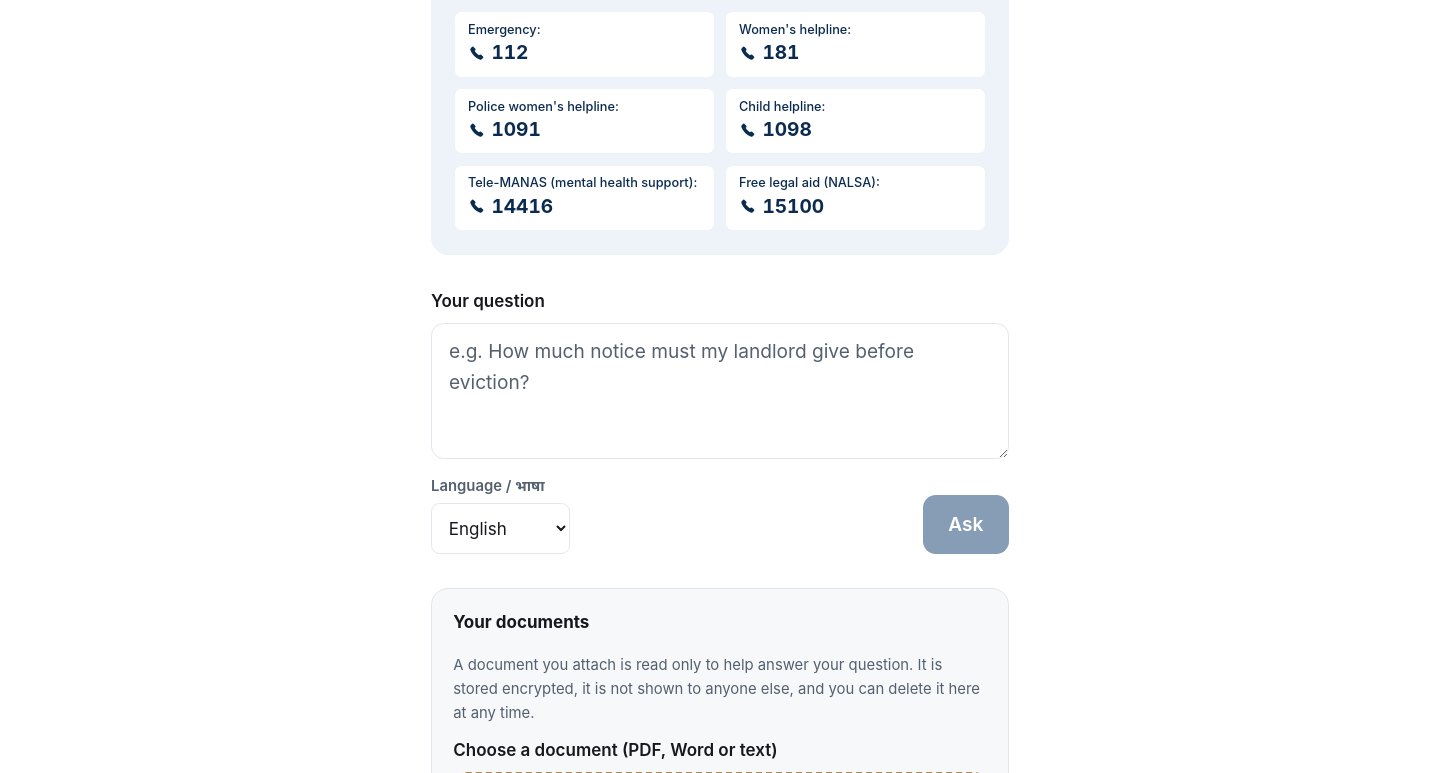
HomePage › renders a refusal notice, not an answer, on a quota-exceeded response
The width and height of the screenshot is (1440, 773).
(page scrolled)
Step 1. Type "q" into the text box labelled "Your question" → (720, 390), box left=431, top=322, right=1009, bottom=458
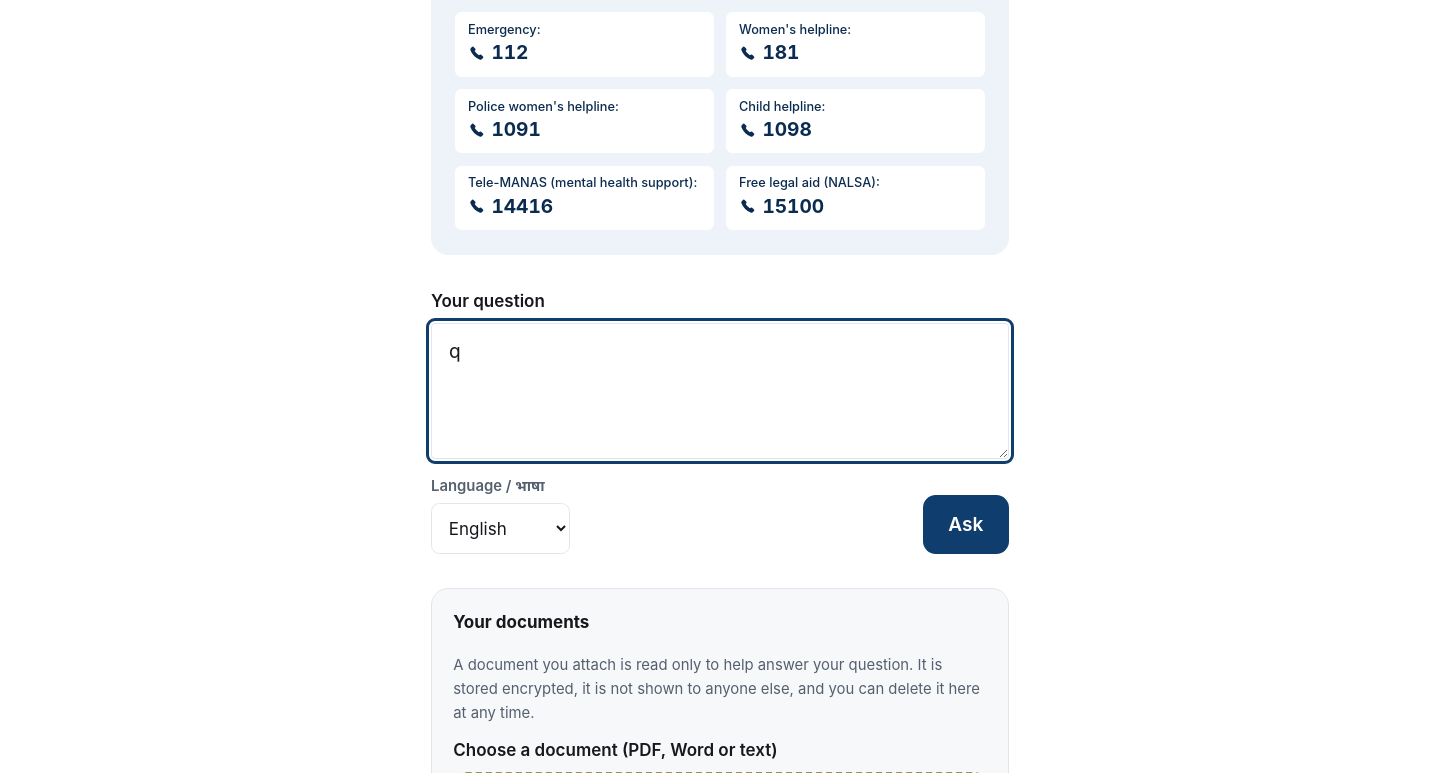
Step 2. Click the button "Ask" → click(966, 524), box left=923, top=495, right=1009, bottom=554
(page scrolled)
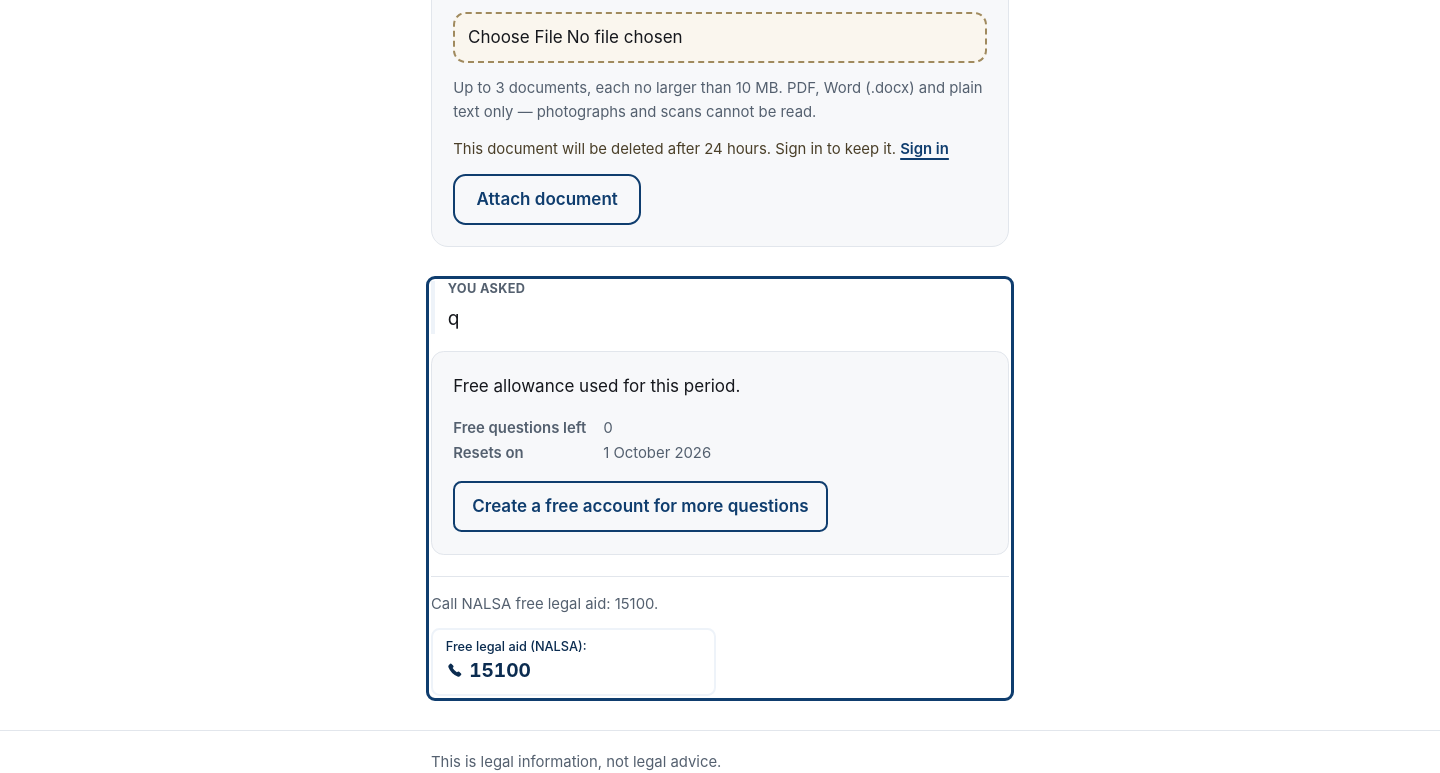
Result: the element with test id "refusal" is shown at left=431, top=351, right=1009, bottom=696
